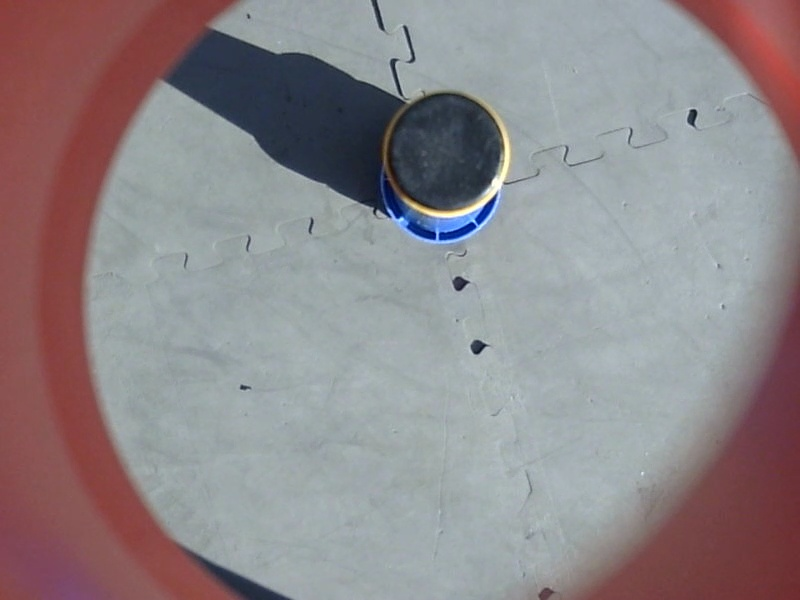tip: (375, 87, 516, 225)
